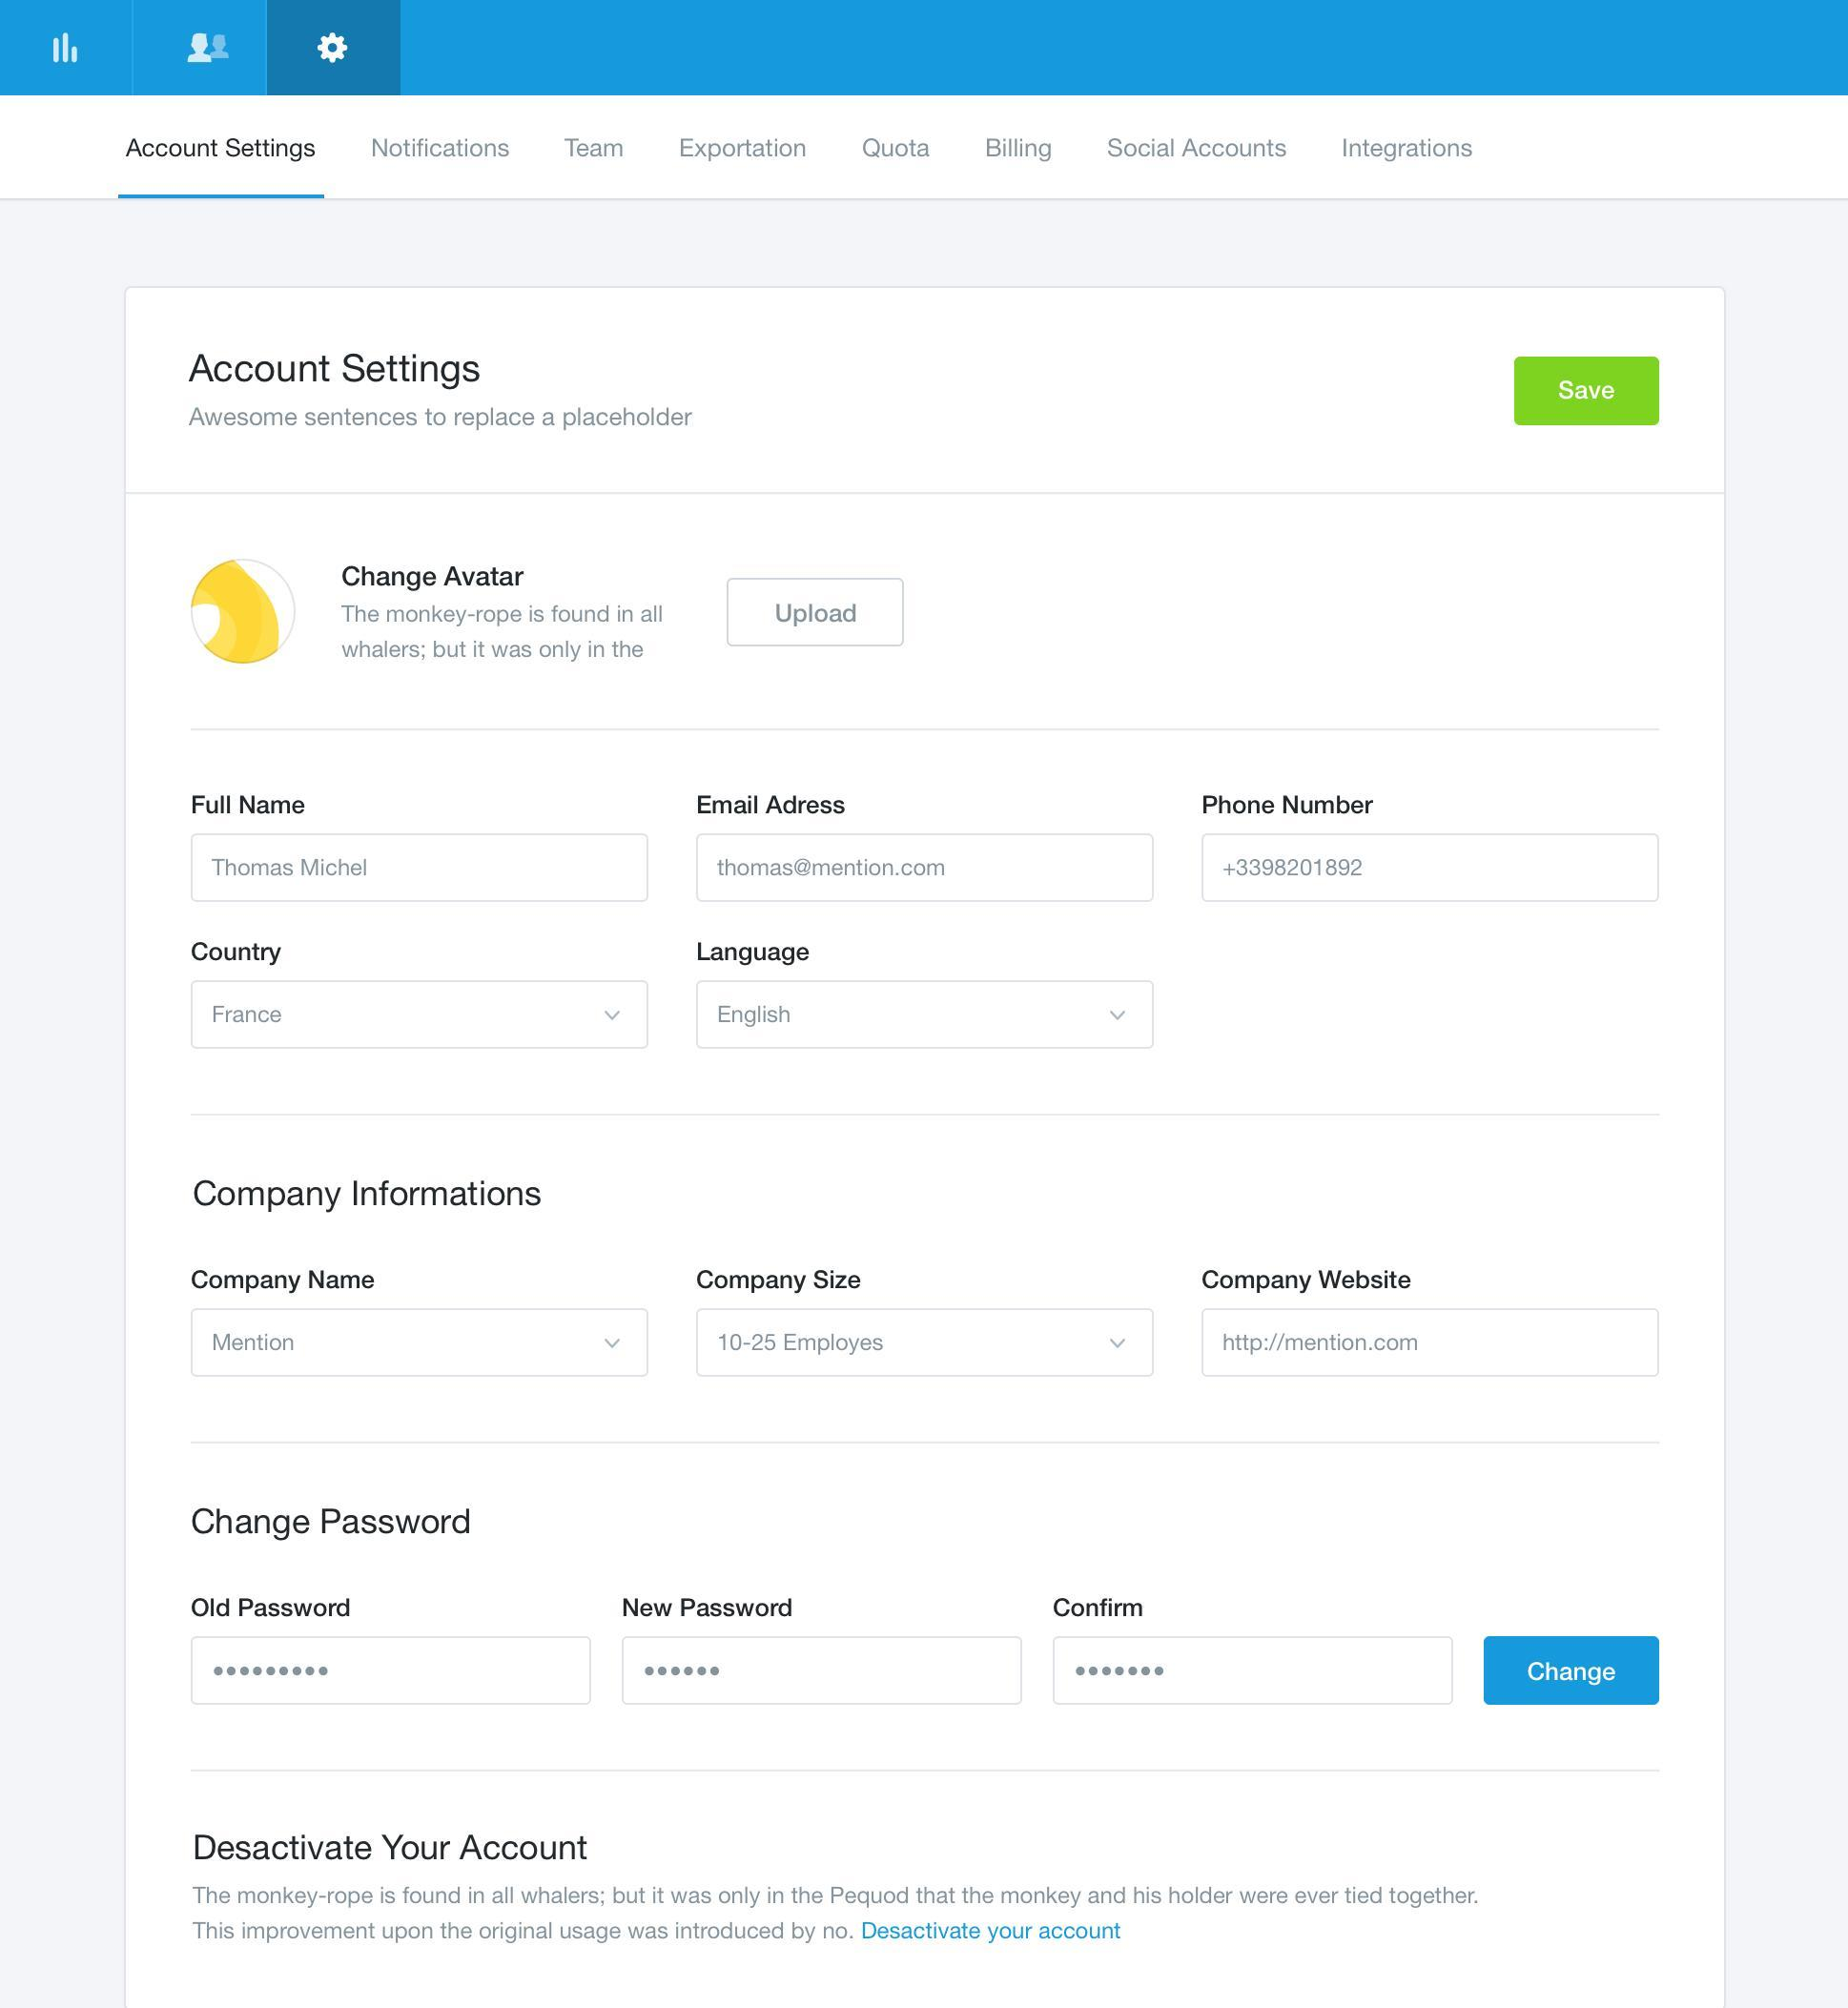button: (119, 94, 327, 198), (730, 577, 906, 652), (1480, 1635, 1655, 1705), (1514, 355, 1659, 429)
dropdown: (191, 1305, 653, 1380), (695, 978, 1155, 1051), (698, 1307, 1153, 1380), (191, 981, 649, 1049)
icon: (33, 19, 100, 77), (178, 24, 240, 68), (308, 26, 360, 70)
input: (198, 827, 651, 906), (696, 831, 1150, 906), (1200, 1307, 1662, 1377), (1200, 836, 1661, 906), (623, 1637, 1022, 1714), (191, 1632, 595, 1707), (1053, 1632, 1456, 1707)
label: (180, 346, 495, 395), (185, 1177, 544, 1217), (184, 1504, 476, 1546), (1185, 1263, 1426, 1301), (1102, 126, 1293, 170), (677, 785, 870, 826), (614, 1586, 805, 1625), (185, 1265, 380, 1301), (1199, 782, 1375, 822), (334, 560, 537, 593), (689, 1263, 868, 1298), (1335, 126, 1487, 166), (367, 128, 518, 168), (670, 129, 814, 166), (695, 927, 814, 971), (187, 791, 332, 826), (194, 1592, 359, 1621), (185, 929, 289, 971), (1046, 1597, 1153, 1632), (975, 129, 1062, 166), (555, 131, 633, 166), (861, 131, 938, 166)
